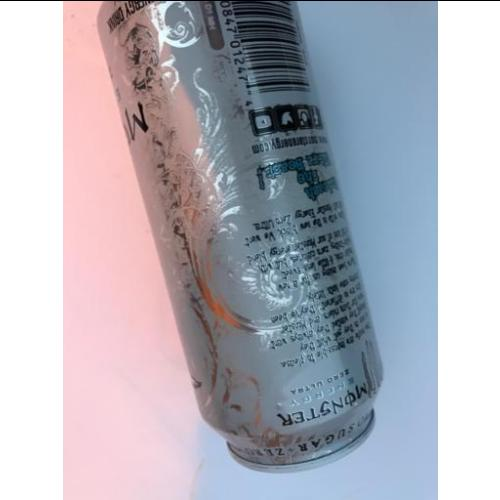metal: (96, 0, 385, 474)
